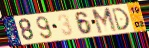3: (58, 14, 74, 38)
6: (74, 10, 93, 36)
8: (18, 18, 35, 42)
9: (35, 16, 54, 40)
D: (111, 7, 131, 32)
M: (90, 6, 118, 36)
